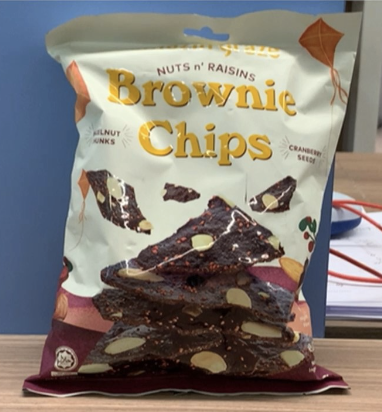crackers_100g-199g: (60, 65, 313, 376)
